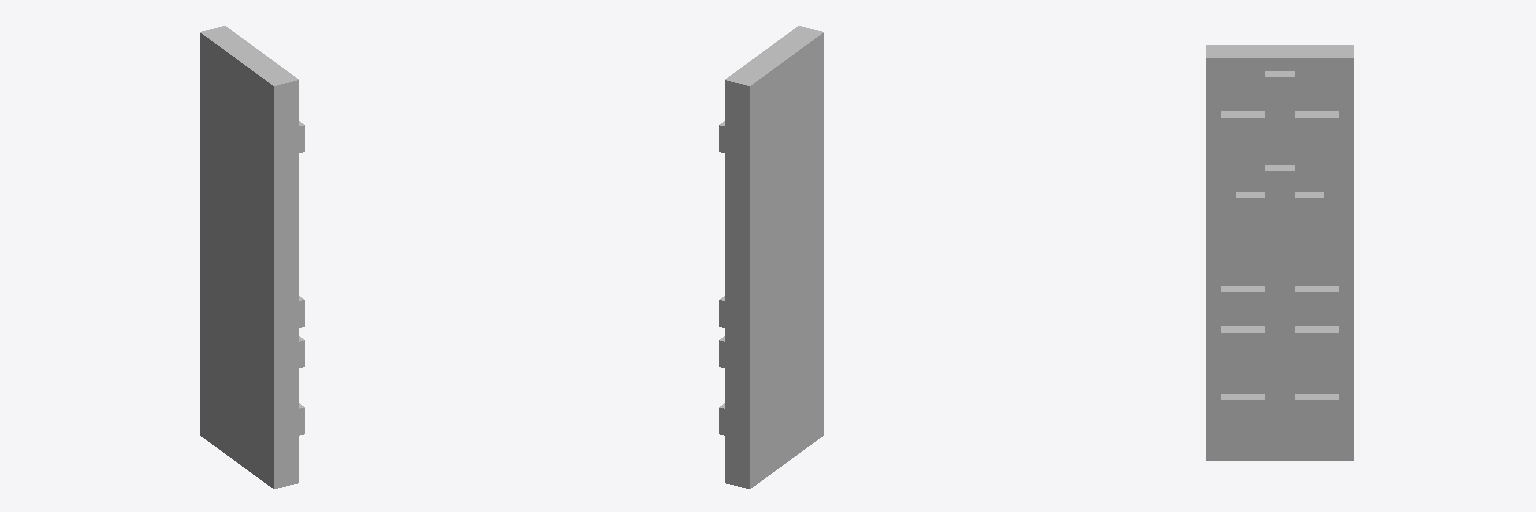
File: Remote Control.obj
The picture shows the model from 3 angles: view 1: azimuth 30°, elevation 25°; view 2: azimuth 150°, elevation 25°; view 3: azimuth 270°, elevation 25°; orthographic projection.
Parts seen in each view (by area): view 1: object 1; view 2: object 1; view 3: object 1.
Boxes of the visible parts, x1,y1,x2,y2 form: object 1: [200, 26, 304, 488]; object 1: [719, 26, 823, 488]; object 1: [1206, 45, 1353, 460].
Size of the model in its own units: 0.3 by 3 by 1.